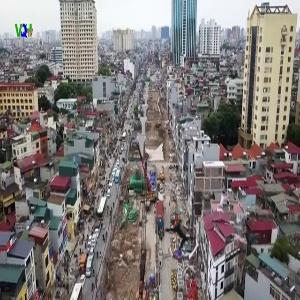drone: (148, 203, 216, 271)
